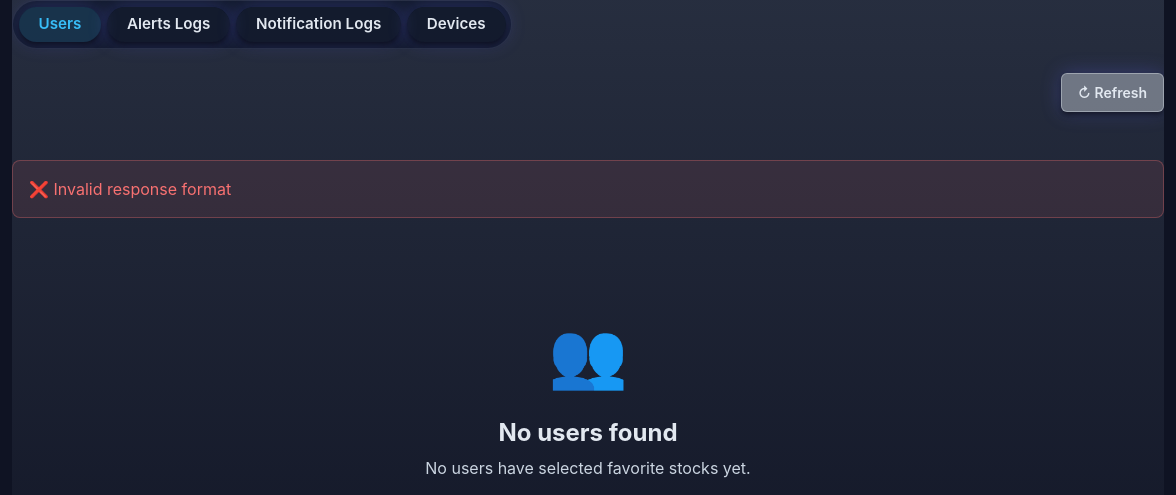
Test case: MonitoringSection (Legacy MonitoringPage Tests) › should render error state on API failure
# Click on Alerts Logs tab (MonitoringSection defaults to "users" tab)
Click the button "Alerts Logs": (169,24) [107,7,230,42]
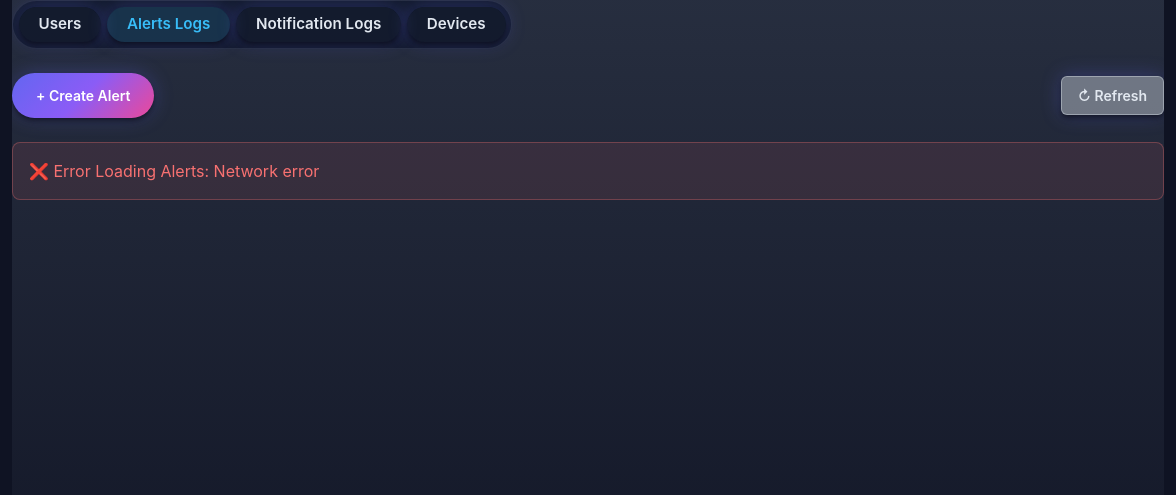
Result: the text "❌ Error Loading Alerts: Network error" is shown at [29,161,319,181]
